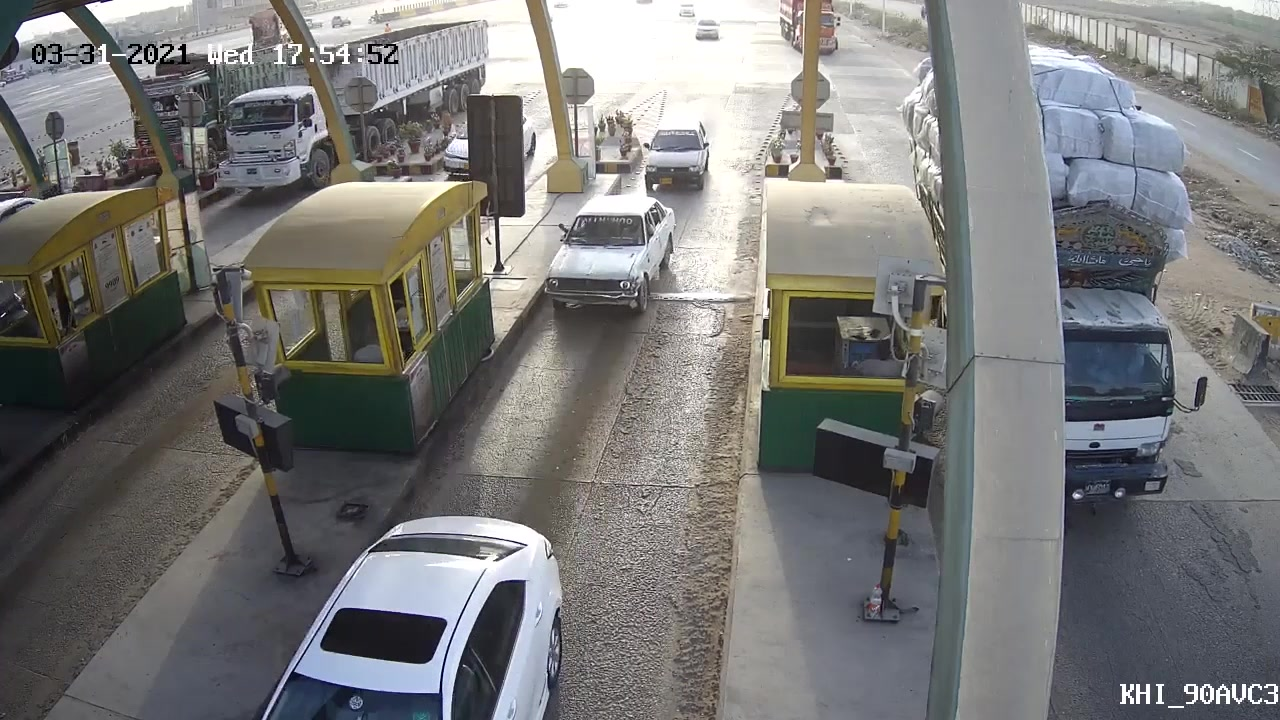F1: (540, 193, 681, 329), (636, 104, 720, 190)
